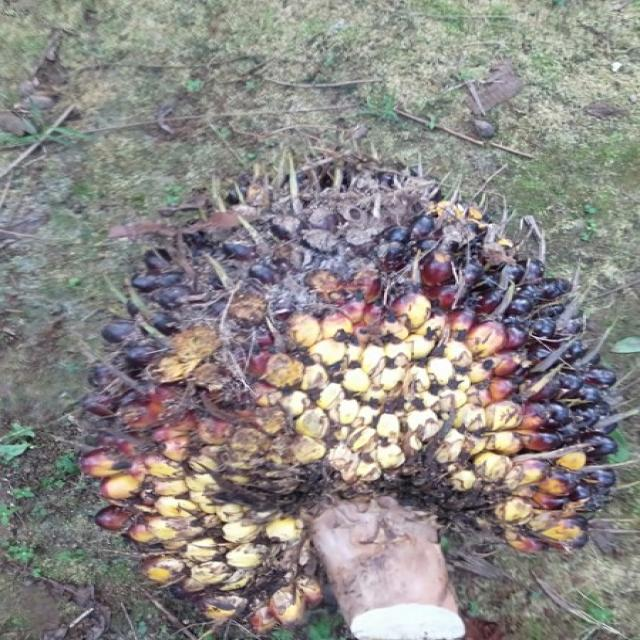fraksi 00: (42, 115, 640, 624)
